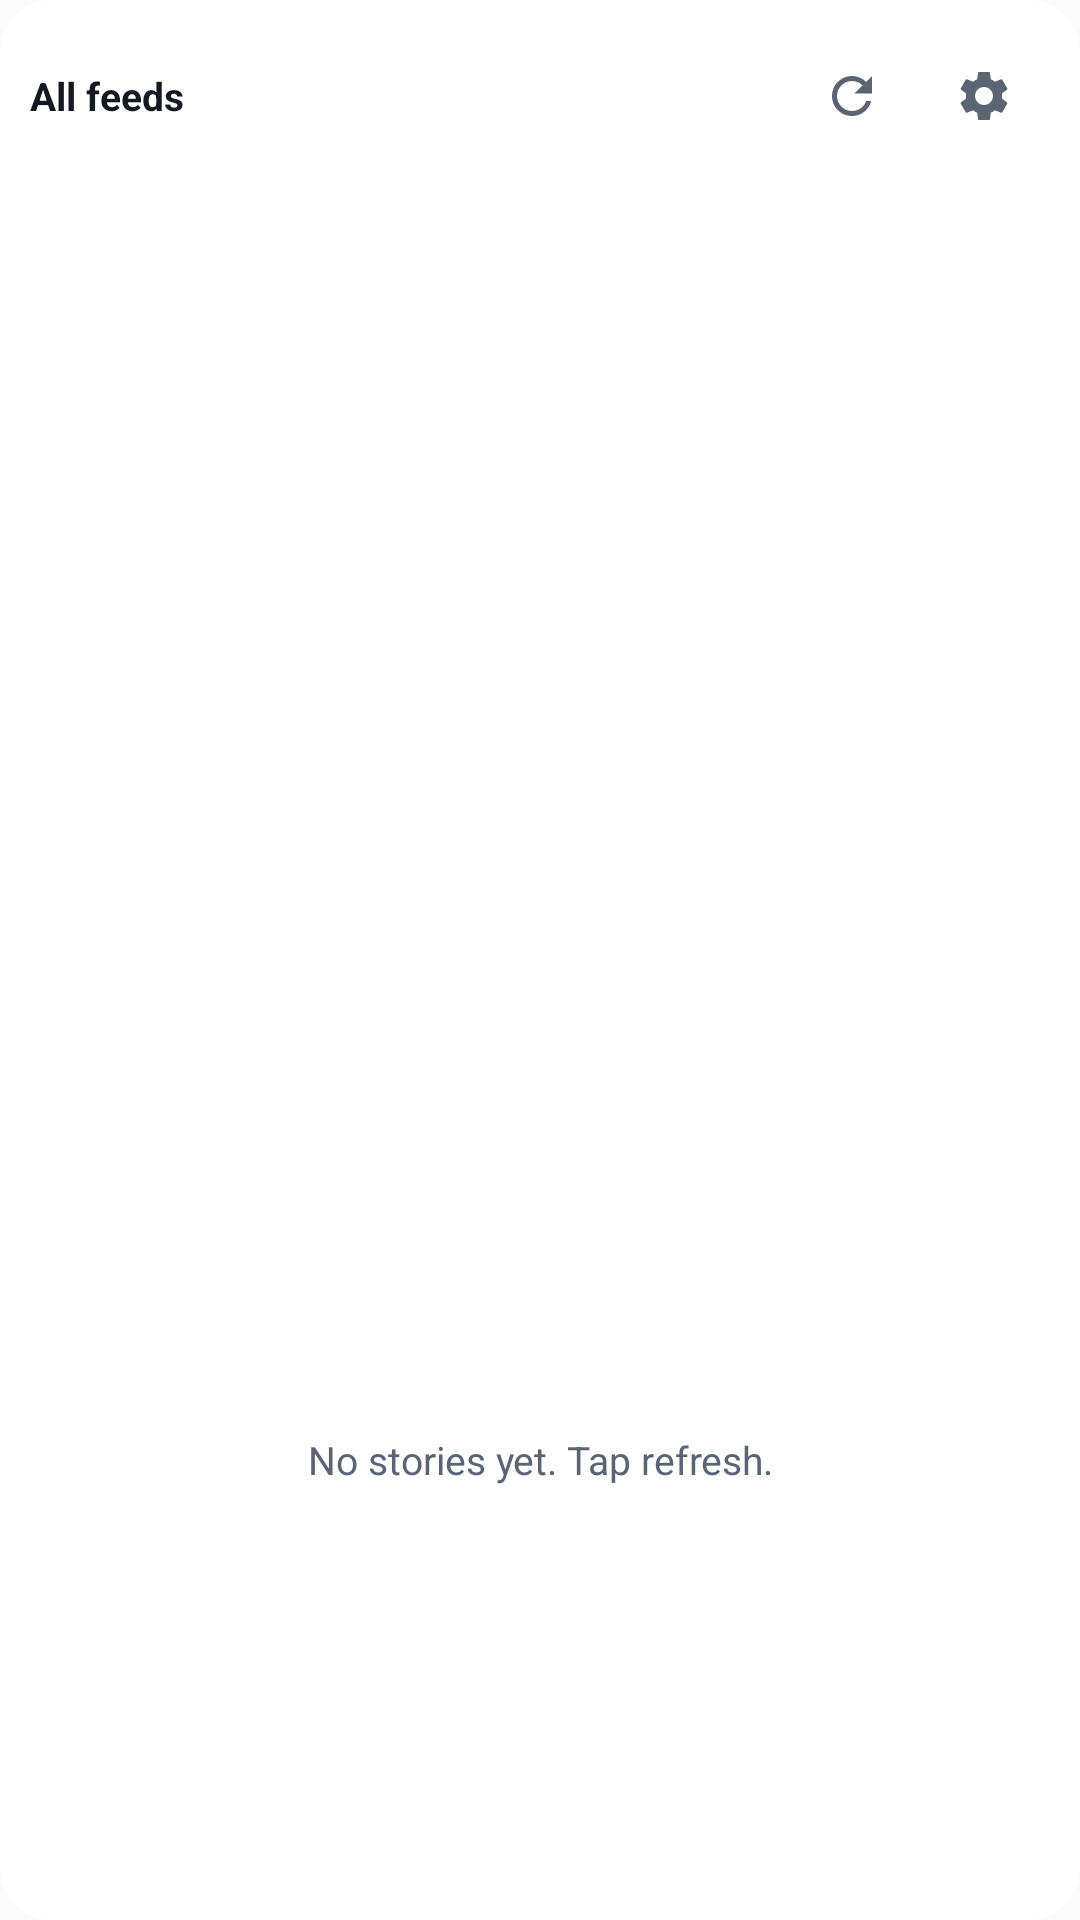

Locate icon controls on the screen. Image size 1080x1920, boxes as (x1, y1, x2, y2).
Refresh: (832, 76, 872, 116)
Widget settings: (960, 72, 1008, 120)
